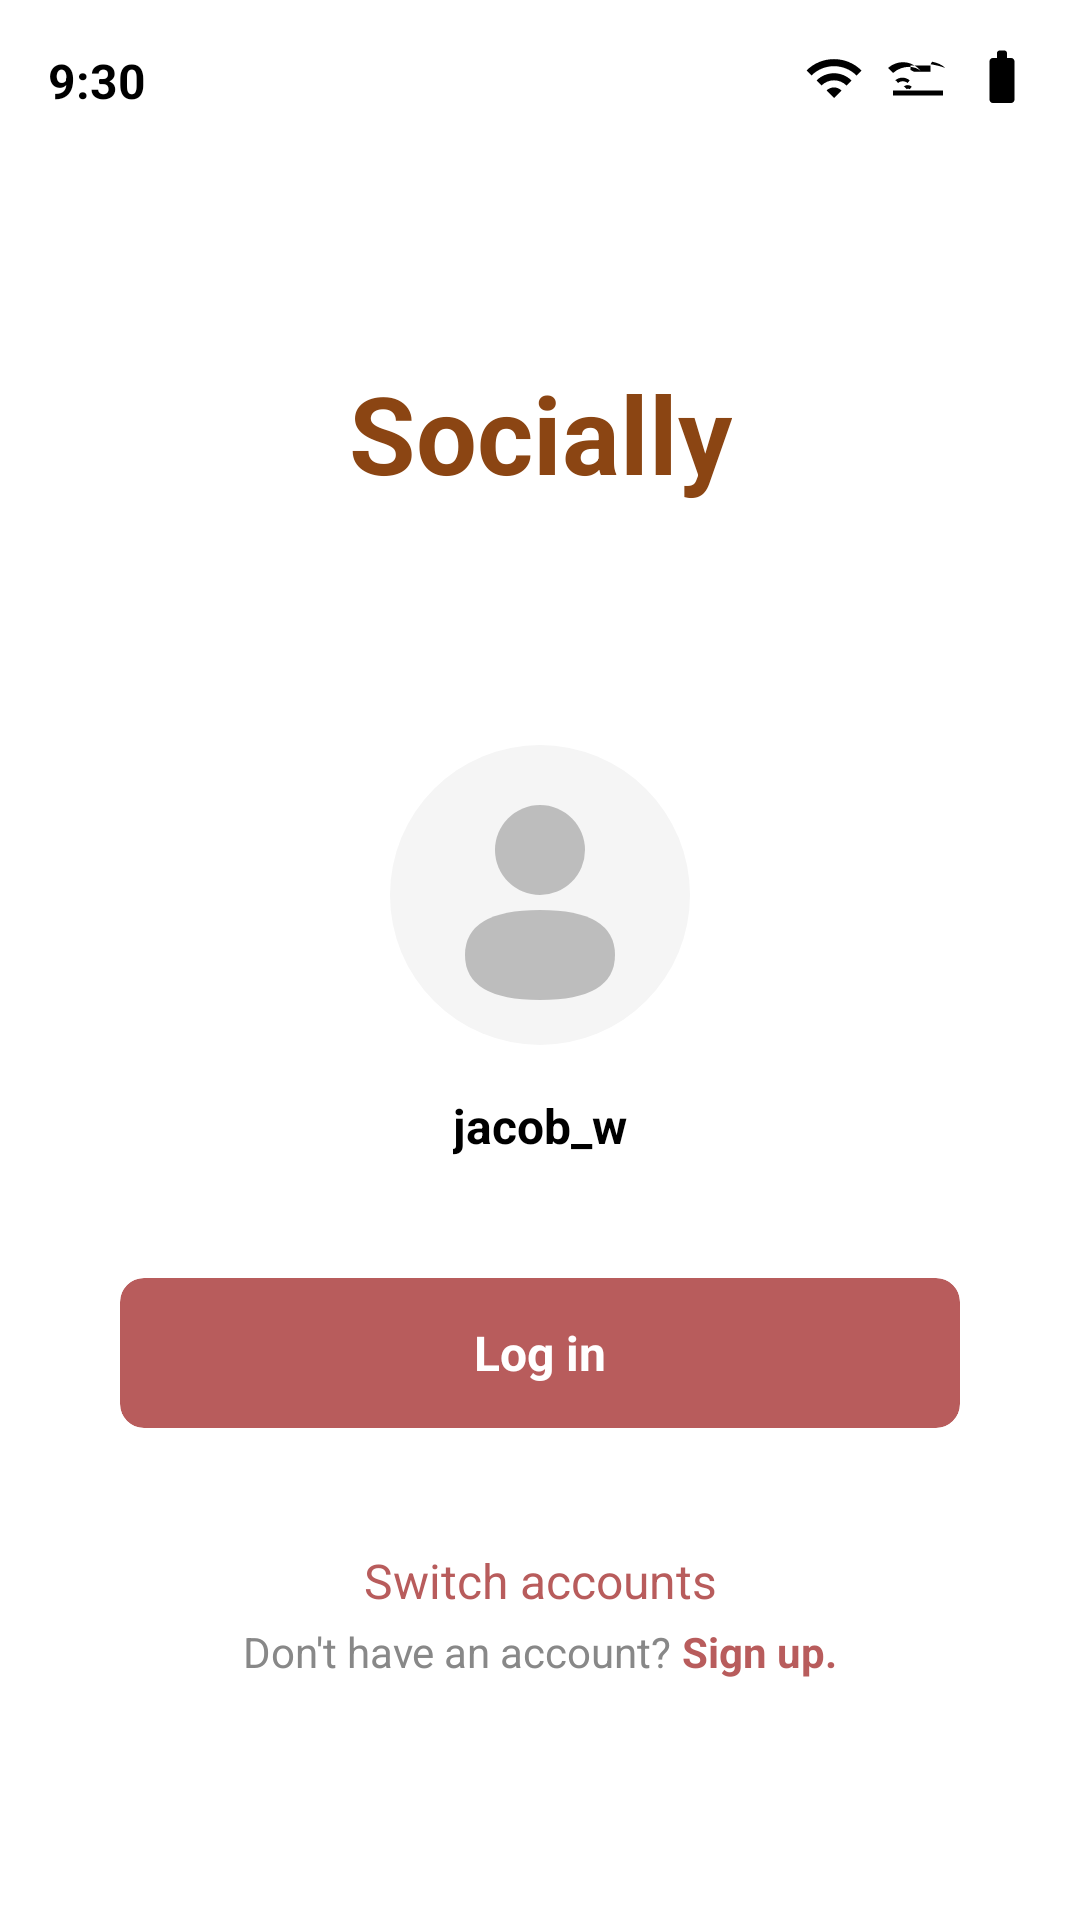

Screen size 1080x1920. Icon name, then its center in pixels as [x,y]:
battery: [1002,76]
wifi: [834,78]
